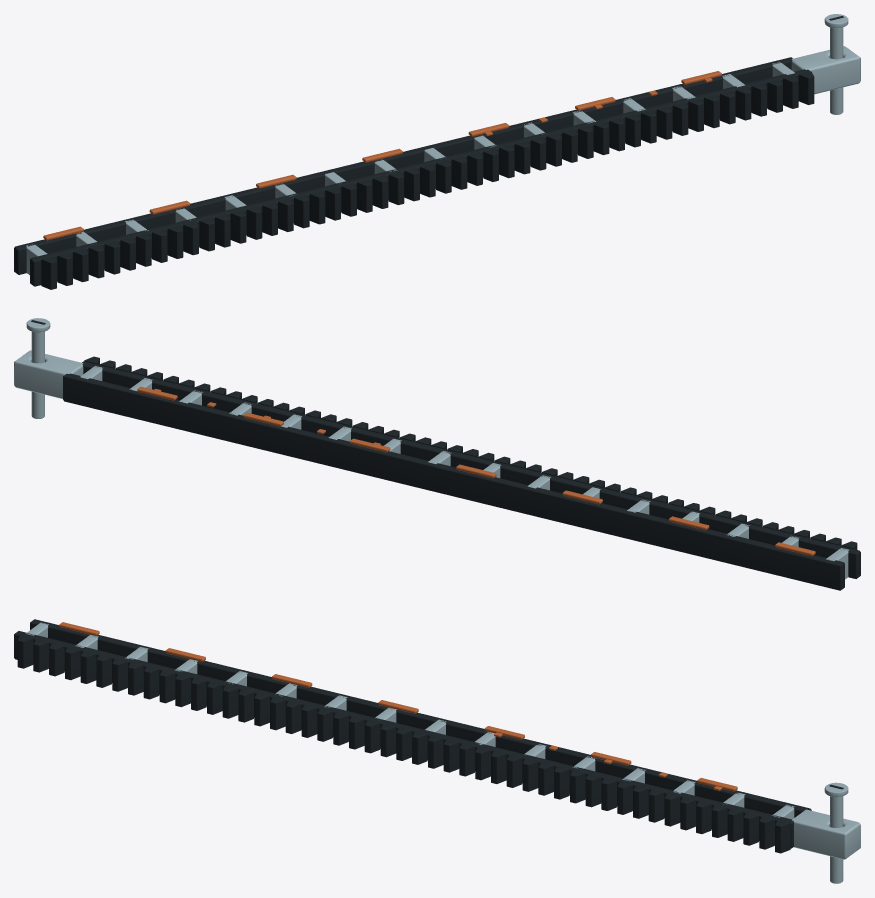
3 views of the same model, one above another, from view 1: azimuth 30°, elevation 25°; view 2: azimuth 150°, elevation 25°; view 3: azimuth 330°, elevation 25° (orthographic).
Visible parts, largest first — view 1: Export_R02_rack_body__Launcher_Graphite_POM__rack_guide_and_, Export_R02_rack_body__Launcher_Brushed_Steel__rack_guide_and, Export_R02_backbone__Performance_Copper_Anodized__backbone, Export_R02_service_pin__Launcher_Brushed_Steel__service_fast; view 2: Export_R02_rack_body__Launcher_Graphite_POM__rack_guide_and_, Export_R02_rack_body__Launcher_Brushed_Steel__rack_guide_and, Export_R02_backbone__Performance_Copper_Anodized__backbone, Export_R02_service_pin__Launcher_Brushed_Steel__service_fast; view 3: Export_R02_rack_body__Launcher_Graphite_POM__rack_guide_and_, Export_R02_rack_body__Launcher_Brushed_Steel__rack_guide_and, Export_R02_backbone__Performance_Copper_Anodized__backbone, Export_R02_service_pin__Launcher_Brushed_Steel__service_fast.
Boxes of the visible parts, x1,y1,x2,y2 form: Export_R02_rack_body__Launcher_Graphite_POM__rack_guide_and_: (14, 57, 814, 289); Export_R02_rack_body__Launcher_Brushed_Steel__rack_guide_and: (26, 46, 860, 274); Export_R02_backbone__Performance_Copper_Anodized__backbone: (43, 71, 721, 240); Export_R02_service_pin__Launcher_Brushed_Steel__service_fast: (824, 14, 848, 114); Export_R02_rack_body__Launcher_Graphite_POM__rack_guide_and_: (63, 356, 860, 590); Export_R02_rack_body__Launcher_Brushed_Steel__rack_guide_and: (14, 350, 848, 579); Export_R02_backbone__Performance_Copper_Anodized__backbone: (137, 386, 815, 556); Export_R02_service_pin__Launcher_Brushed_Steel__service_fast: (26, 318, 50, 418); Export_R02_rack_body__Launcher_Graphite_POM__rack_guide_and_: (14, 619, 811, 853); Export_R02_rack_body__Launcher_Brushed_Steel__rack_guide_and: (26, 622, 860, 859); Export_R02_backbone__Performance_Copper_Anodized__backbone: (59, 622, 737, 791); Export_R02_service_pin__Launcher_Brushed_Steel__service_fast: (824, 782, 848, 883).
Bounding box in the file's own units: 2.42 × 0.2635 × 0.1371.
